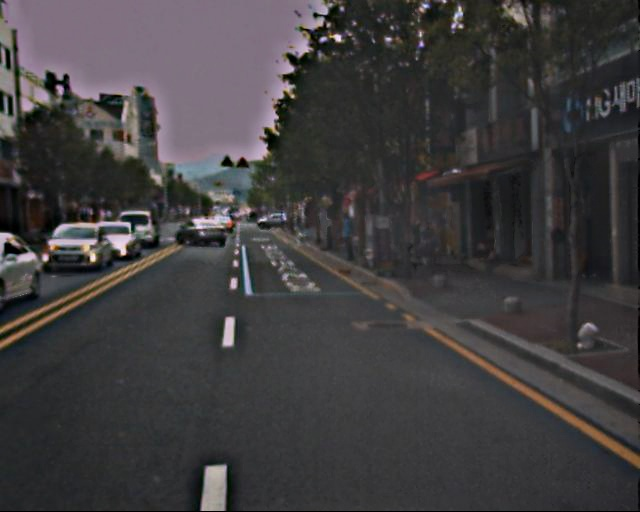person: (337, 210, 358, 261), (419, 221, 439, 269)
